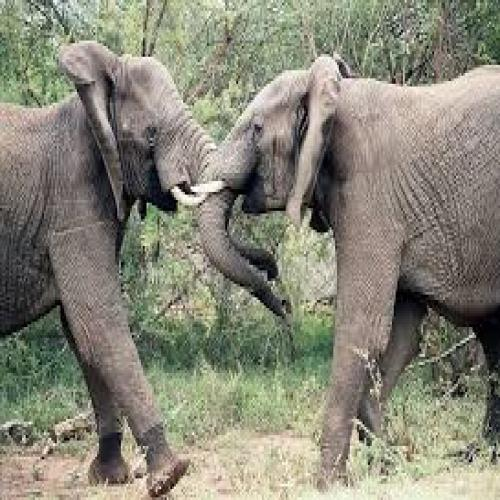asian_elephant-endangered: (0, 40, 290, 500), (198, 55, 500, 493)
